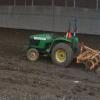Tractor: (24, 25, 100, 78)
